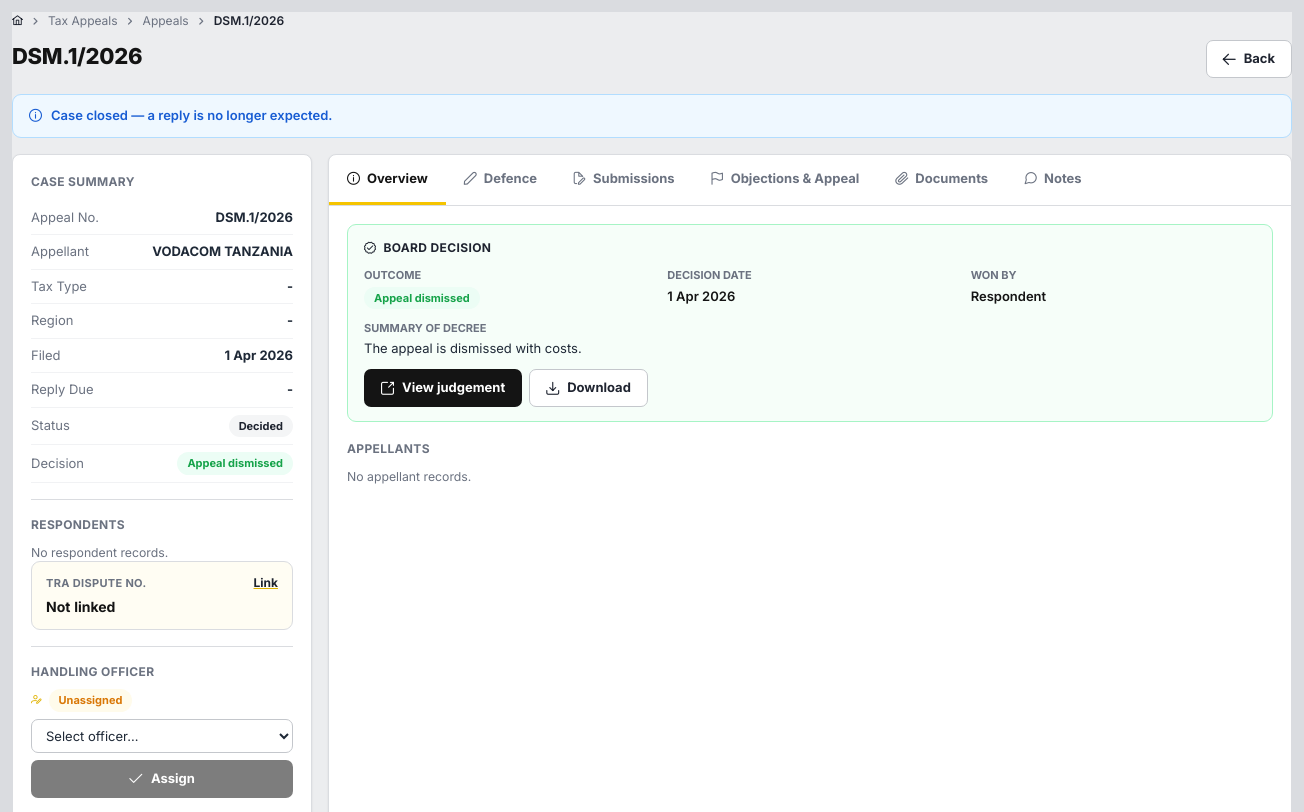
Test case: AppealDetail › keeps the page usable when one section fails, and retries just that section
Click the tab "Defence" at (500, 180), box x1=446 y1=154 x2=555 y2=205
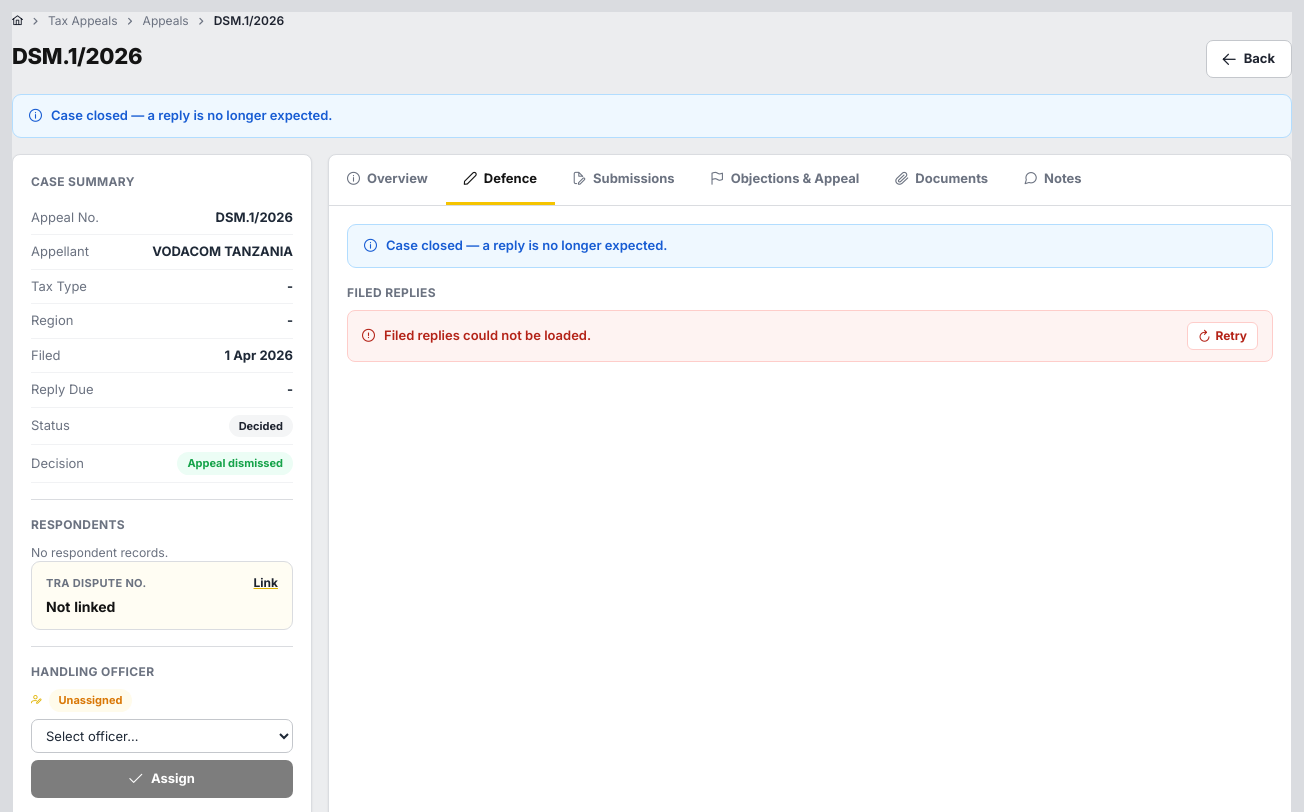
Expected: the text "Filed replies could not be loaded." is shown, x1=384 y1=327 x2=591 y2=343
Click the button "Retry" at (1223, 336), box x1=1187 y1=322 x2=1258 y2=350
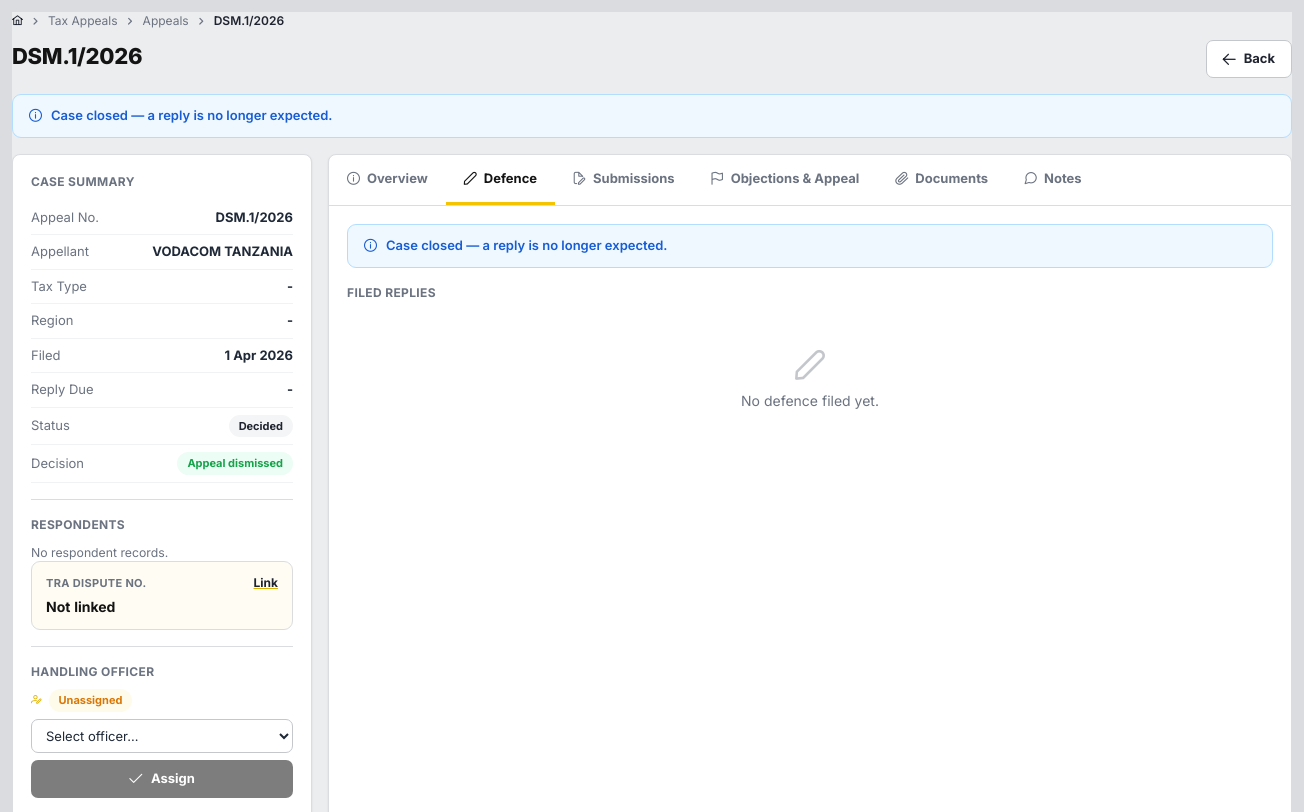
Expected: the text "Filed replies could not be loaded." is gone
Expected: the text "No defence filed yet." is shown, x1=363 y1=350 x2=1257 y2=408
